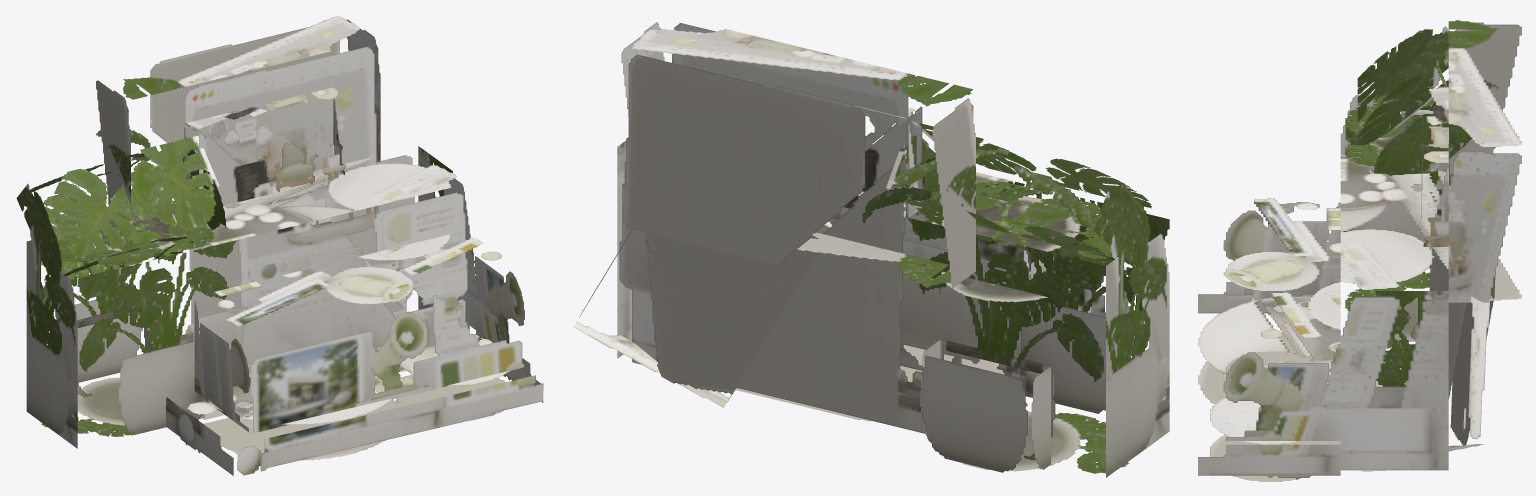
Rendered from decor-512.glb.
3 views of the same model, side by side, from view 1: azimuth 30°, elevation 25°; view 2: azimuth 150°, elevation 25°; view 3: azimuth 270°, elevation 25° (orthographic). The views are drawn at different scales.
Visible parts, largest first — view 1: box_impostor; view 2: box_impostor; view 3: box_impostor.
Boxes of the visible parts, left/top/right/bottom form: box_impostor: left=16, top=16, right=543, bottom=475; box_impostor: left=574, top=22, right=1169, bottom=477; box_impostor: left=1198, top=20, right=1521, bottom=481.
Size of the model in its own units: 2.6 by 1.86 by 1.67.
1 material, 1 textured.
